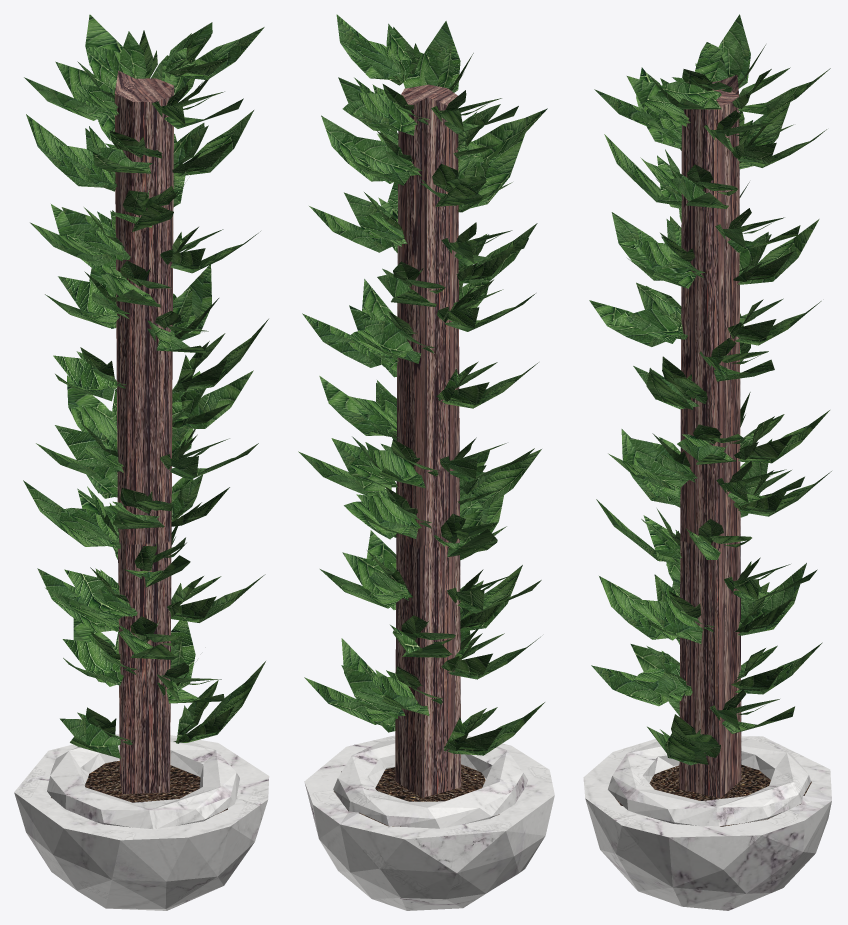
Rendered from arbol.fbx.
3 views of the same model, side by side, from view 1: azimuth 30°, elevation 25°; view 2: azimuth 150°, elevation 25°; view 3: azimuth 270°, elevation 25° (orthographic).
Parts seen in each view (by area): view 1: Plano.042; view 2: Plano.042; view 3: Plano.042.
Boxes of the visible parts, x1,y1,x2,y2 form: Plano.042: (14, 14, 269, 910); Plano.042: (298, 14, 554, 910); Plano.042: (583, 14, 831, 910).
Size of the model in its own units: 509 by 1913 by 506.
Materials: 4 (4 with a texture image).
